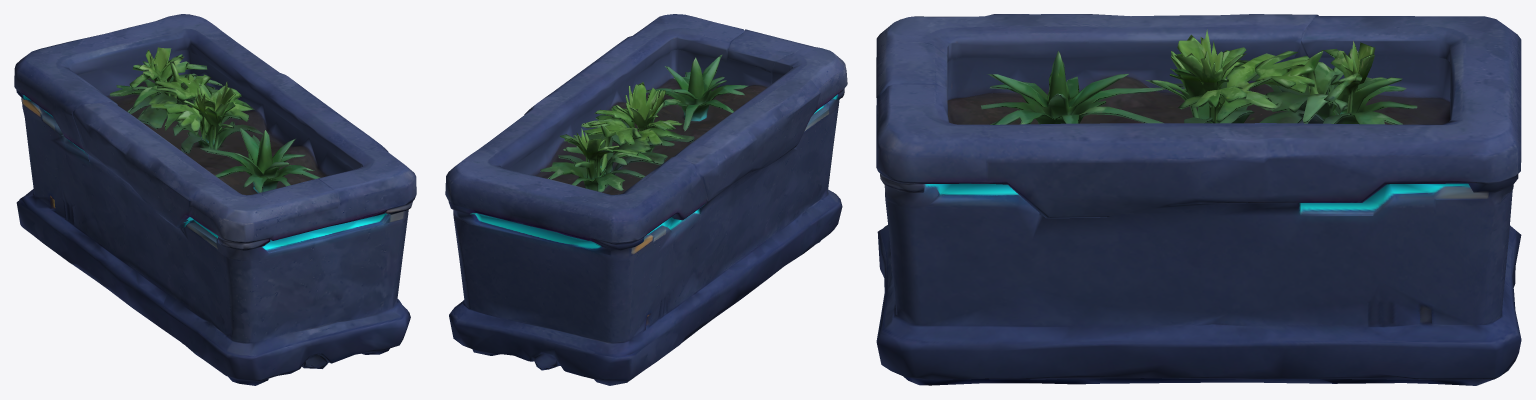
Rendered from planter.glb.
The picture shows the model from 3 angles, left to right: view 1: azimuth 30°, elevation 25°; view 2: azimuth 150°, elevation 25°; view 3: azimuth 270°, elevation 25°; orthographic projection. The views are drawn at different scales.
Parts seen in each view (by area): view 1: tripo_node_aa6f48b1-9d24-494f-94a6-e46eb2e5eda9; view 2: tripo_node_aa6f48b1-9d24-494f-94a6-e46eb2e5eda9; view 3: tripo_node_aa6f48b1-9d24-494f-94a6-e46eb2e5eda9.
Boxes of the visible parts, x1,y1,x2,y2 form: tripo_node_aa6f48b1-9d24-494f-94a6-e46eb2e5eda9: (14, 14, 416, 385); tripo_node_aa6f48b1-9d24-494f-94a6-e46eb2e5eda9: (445, 14, 847, 385); tripo_node_aa6f48b1-9d24-494f-94a6-e46eb2e5eda9: (876, 14, 1521, 385).
Size of the model in its own units: 0.4963 by 0.4912 by 0.9791.
1 material, 1 textured.
